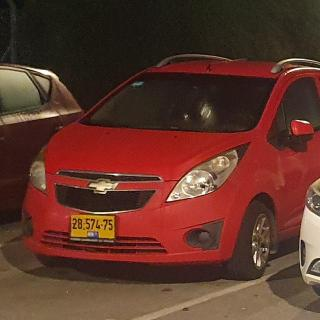LicensePlate: (72, 216, 115, 231)
